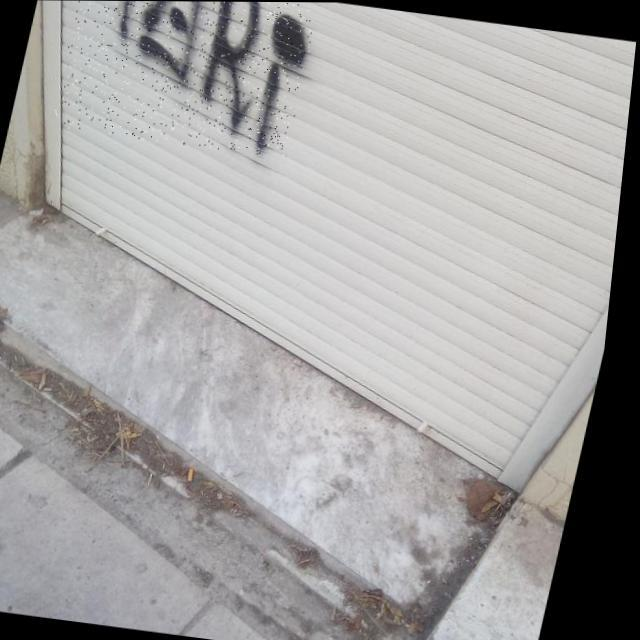-: (49, 0, 320, 157)
